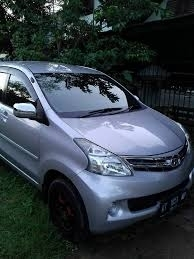plate: (162, 189, 189, 216)
